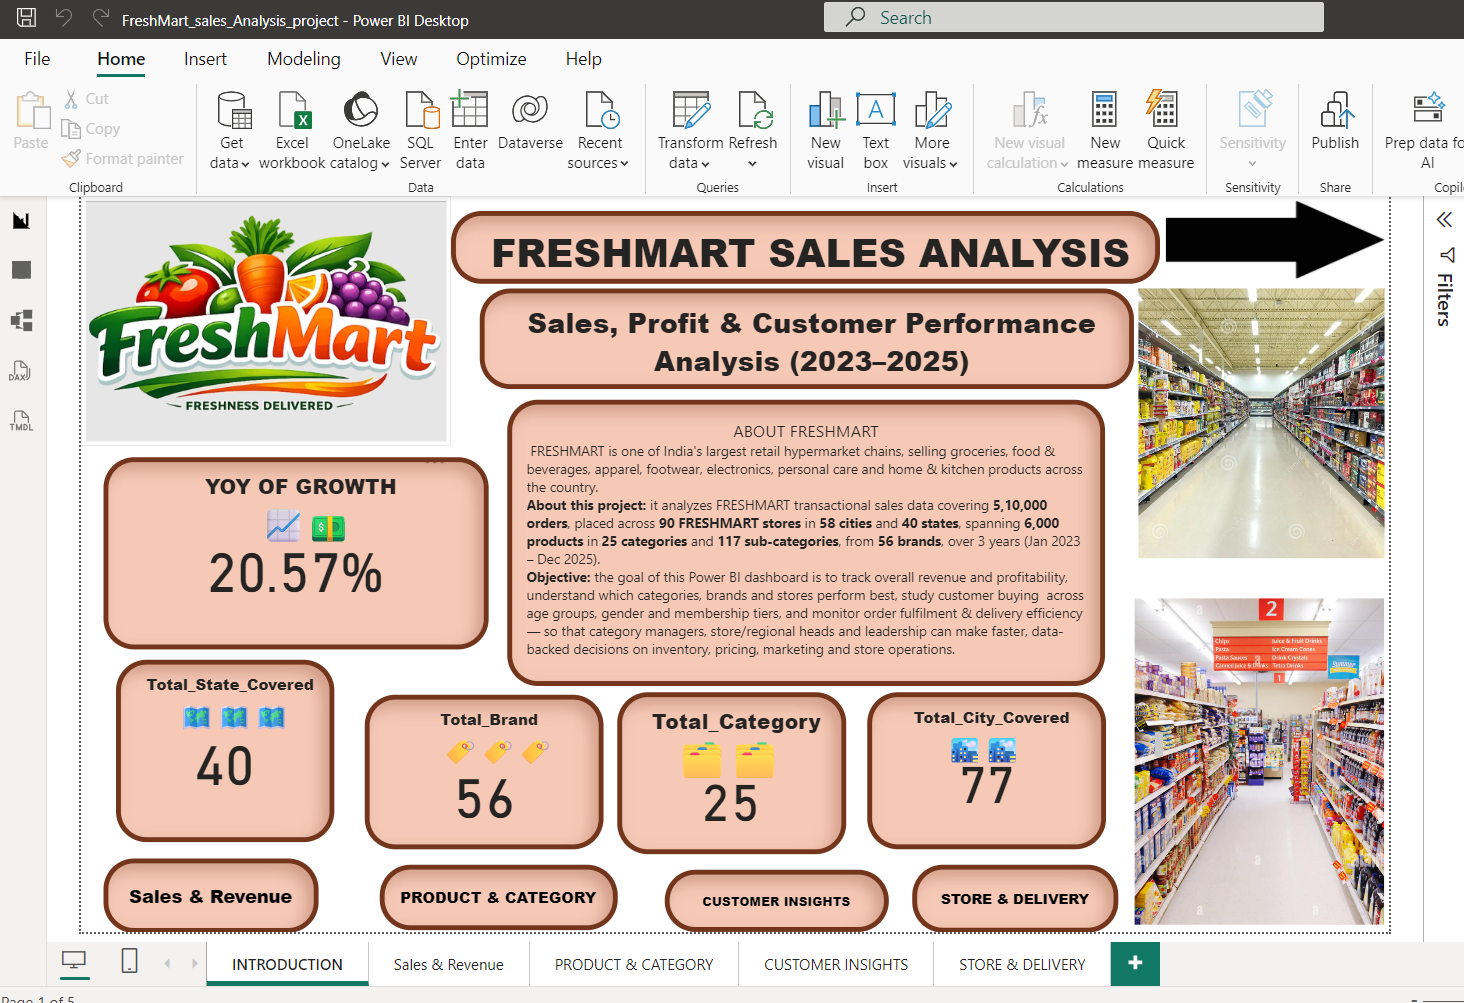

The dashboard page shown, as its layout file describes it:
{"tool":"powerbi","page":{"name":"INTRODUCTION","canvas":[1280,720],"ordinal":0},"visuals":[{"type":"textbox","box":[0,0,660,720],"z":0},{"type":"image","box":[40,34,230,141],"z":1000},{"type":"textbox","box":[39.8,174.9,580.3,107.4],"z":2000},{"type":"textbox","box":[40,286,580,30],"z":3000},{"type":"textbox","box":[40,326,585,262],"z":4000},{"type":"textbox","box":[40,590,300,24],"z":5000},{"type":"actionButton","box":[40,618,135,56],"z":6000},{"type":"actionButton","box":[185,618,135,56],"z":7000},{"type":"actionButton","box":[330,618,135,56],"z":8000},{"type":"actionButton","box":[475,618,135,56],"z":9000},{"type":"cardVisual","title":"📈 YEAR-OVER-YEAR SALES GROWTH","fields":{"Data":["FreshMart_Sales_Analysis.Yoy_sales_growth"]},"box":[690,40,574,132],"z":10000},{"type":"cardVisual","title":"🗺️ STATES COVERED","fields":{"Data":["FreshMart_Sales_Analysis.Total_State_Covered"]},"box":[690,188,281,128],"z":11000},{"type":"cardVisual","title":"🏙️ CITIES COVERED","fields":{"Data":["FreshMart_Sales_Analysis.Total_city_covered"]},"box":[983,188,281,128],"z":12000},{"type":"cardVisual","title":"🏷️ BRANDS","fields":{"Data":["FreshMart_Sales_Analysis.Total_brand"]},"box":[690,328,281,128],"z":13000},{"type":"cardVisual","title":"🗂️ CATEGORIES","fields":{"Data":["FreshMart_Sales_Analysis.Total_category"]},"box":[983,328,281,128],"z":14000},{"type":"image","box":[690,474,266,200],"z":15000},{"type":"image","box":[964,474,300,197],"z":16000},{"type":"textbox","box":[690,684,574,26],"z":17000}]}

Visuals, with their boxes on the page's 1280x720 design canvas (x1, y1, x2, y2). These are canvas units, not pixel positions in the 1464x1003 screenshot, which may show the page scaled, cropped or inside an application window:
textbox: 0 0 660 720
image: 40 34 270 175
textbox: 40 175 620 282
textbox: 40 286 620 316
textbox: 40 326 625 588
textbox: 40 590 340 614
actionButton: 40 618 175 674
actionButton: 185 618 320 674
actionButton: 330 618 465 674
actionButton: 475 618 610 674
"📈 YEAR-OVER-YEAR SALES GROWTH" cardVisual: 690 40 1264 172
"🗺️ STATES COVERED" cardVisual: 690 188 971 316
"🏙️ CITIES COVERED" cardVisual: 983 188 1264 316
"🏷️ BRANDS" cardVisual: 690 328 971 456
"🗂️ CATEGORIES" cardVisual: 983 328 1264 456
image: 690 474 956 674
image: 964 474 1264 671
textbox: 690 684 1264 710
